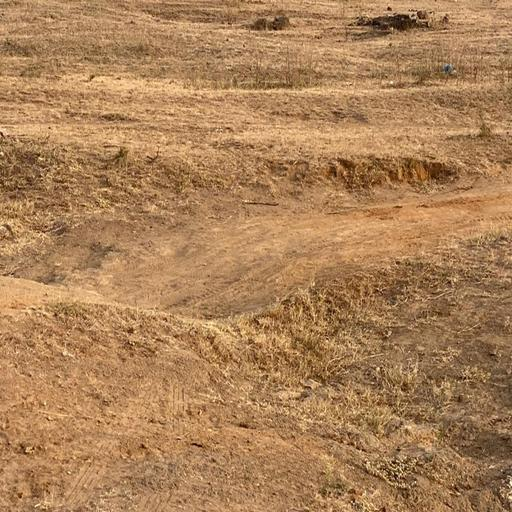vehicle_track: (86, 190, 512, 320)
